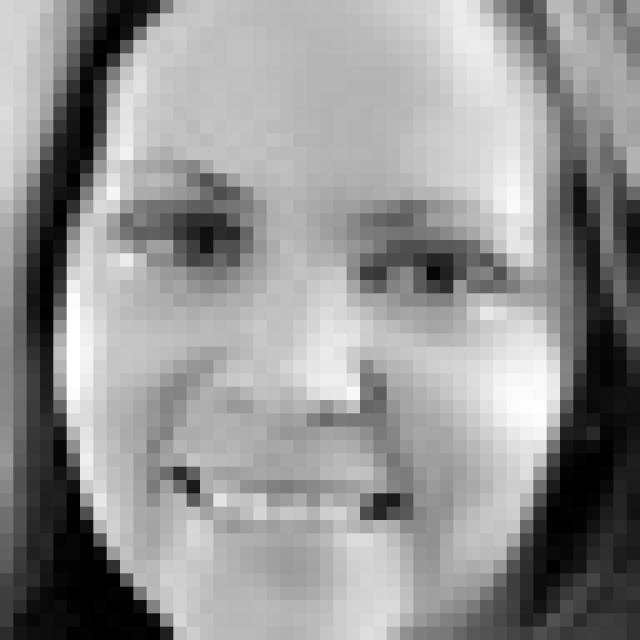happy: (96, 152, 543, 577)
